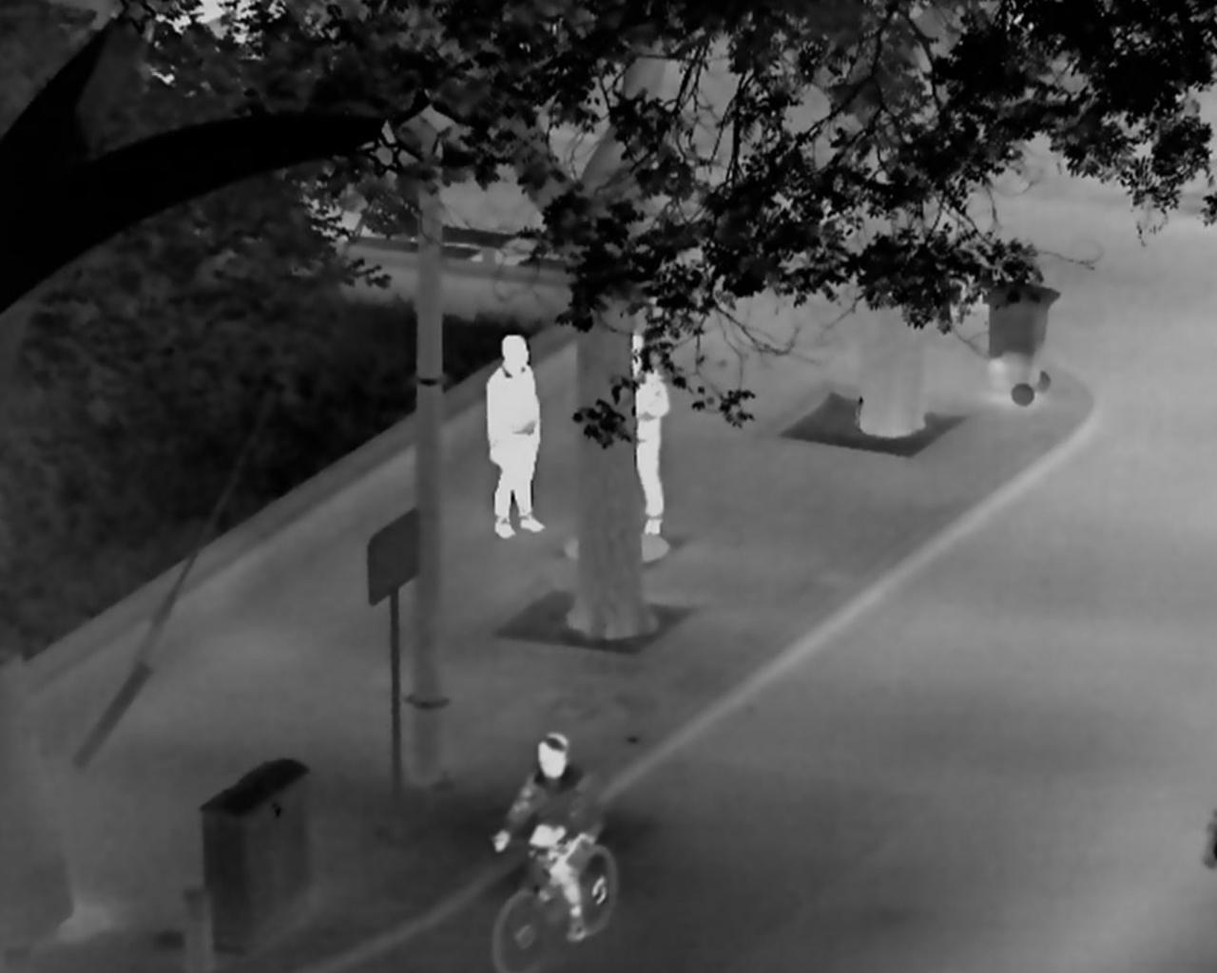person: (490, 731, 603, 942), (484, 333, 545, 538), (628, 334, 670, 535)
